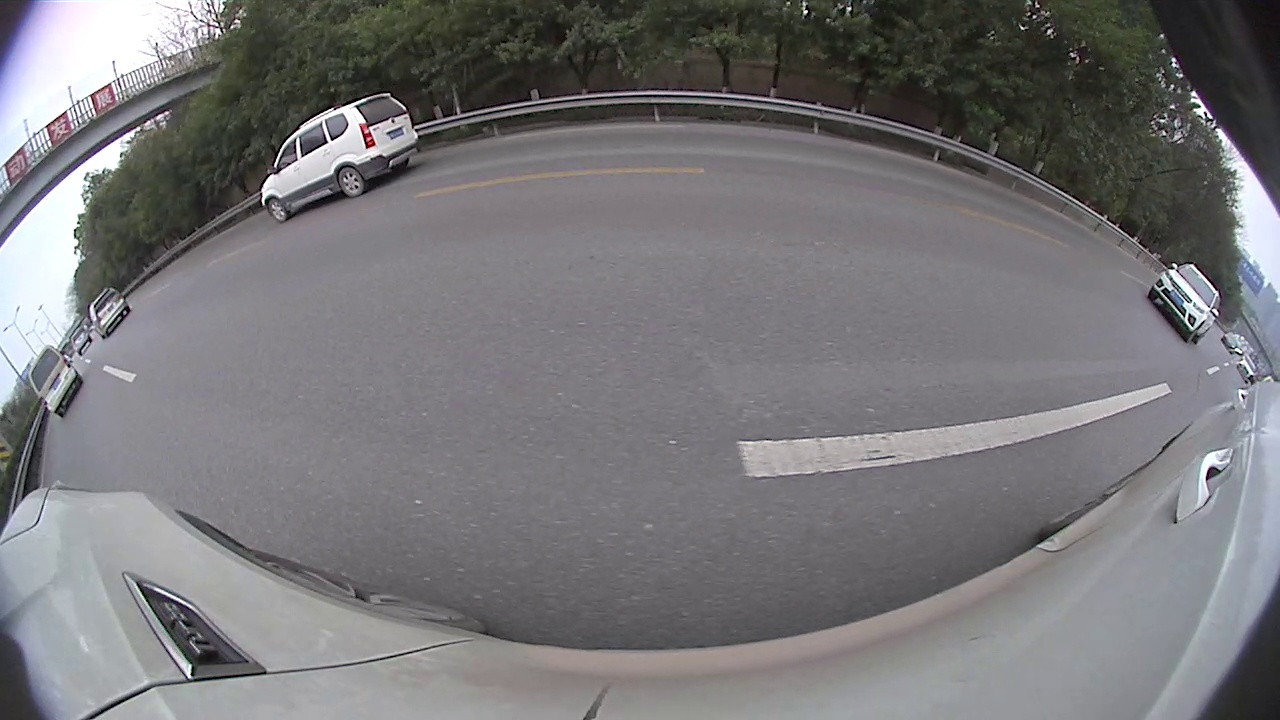car: (258, 91, 421, 226), (1147, 261, 1223, 345), (27, 345, 84, 418), (87, 286, 132, 340), (69, 325, 93, 357)
front: (267, 199, 287, 222)
rear: (339, 168, 363, 196)
